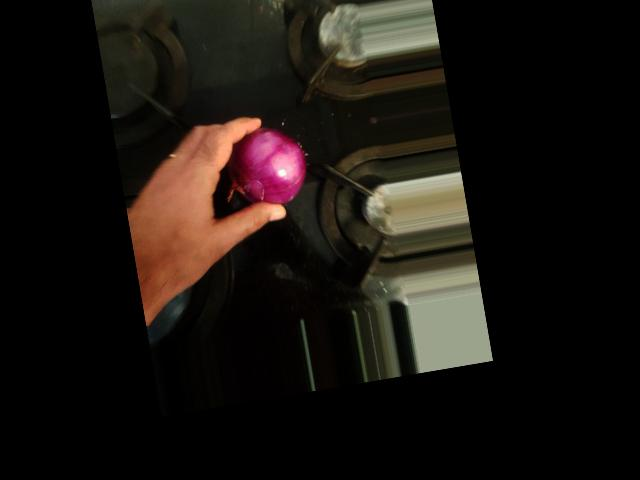onion: (220, 118, 312, 216)
